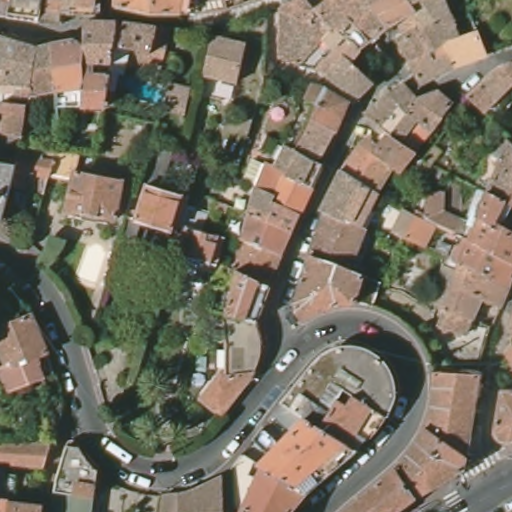pool: (129, 78, 164, 108)
